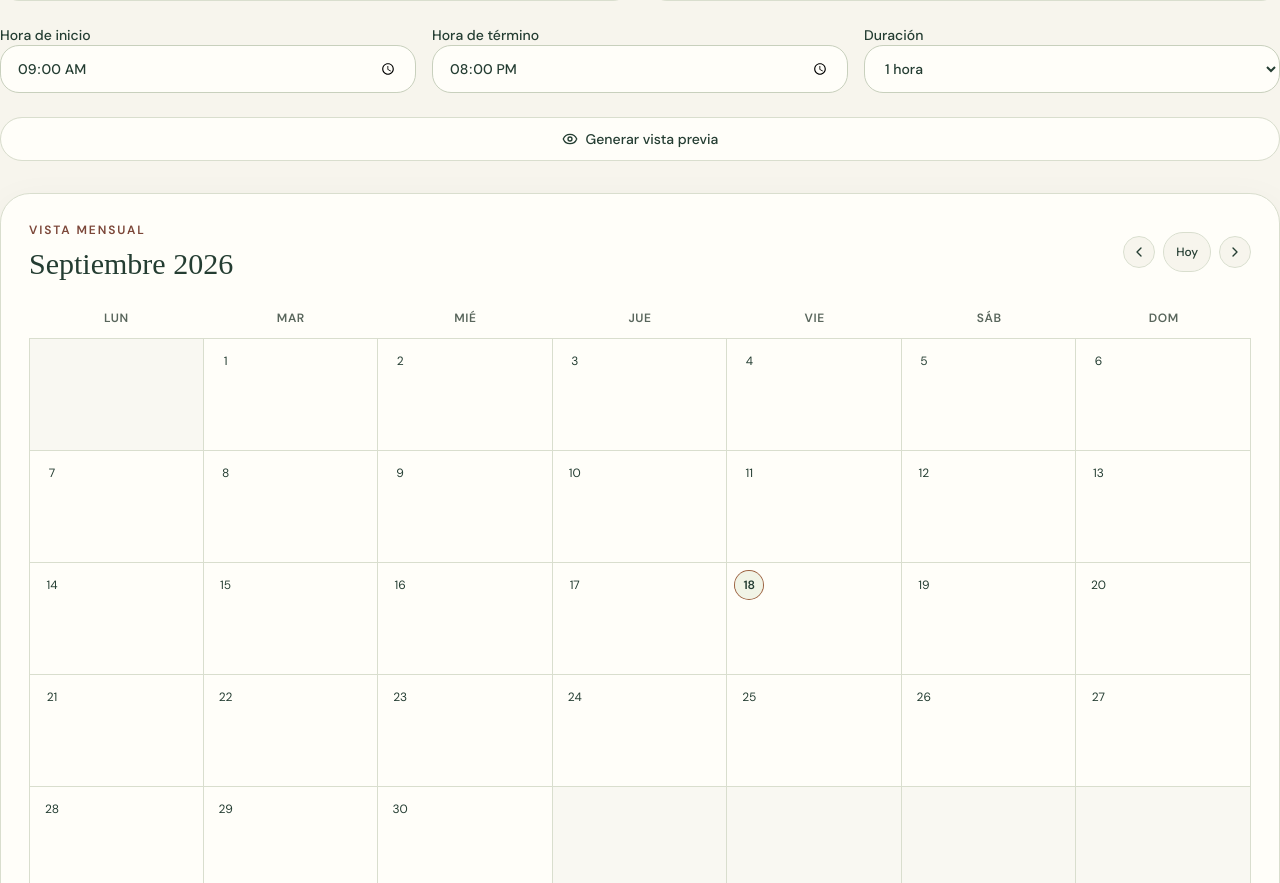
Test: ReservationsPanel › blocks saving a schedule that overlaps an existing slot
(page scrolled)
Click the button named "Agregar horario el Lun 7".
click(52, 473)  # box x1=38 y1=459 x2=66 y2=487
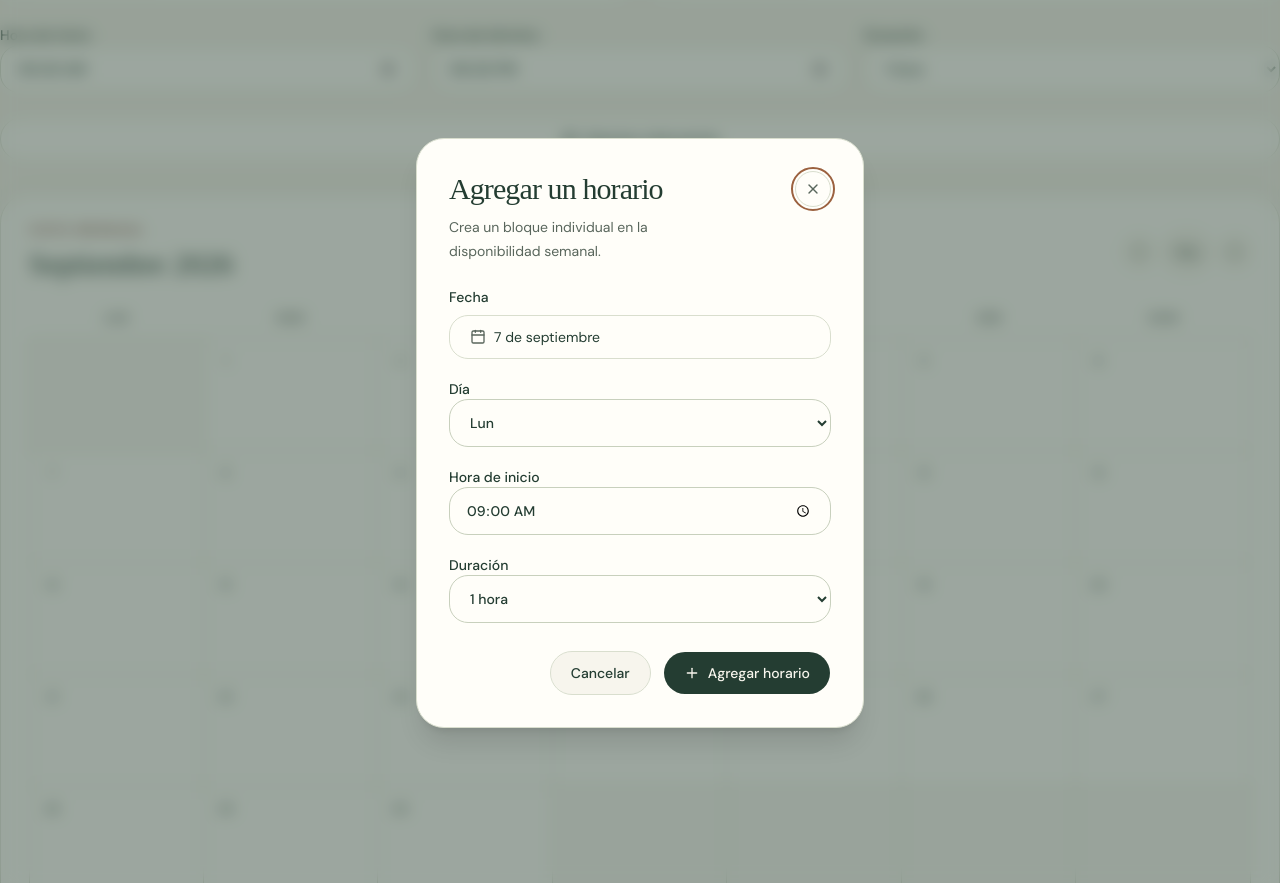
Click the button "Agregar horario".
click(747, 673)  # box x1=663 y1=651 x2=831 y2=695
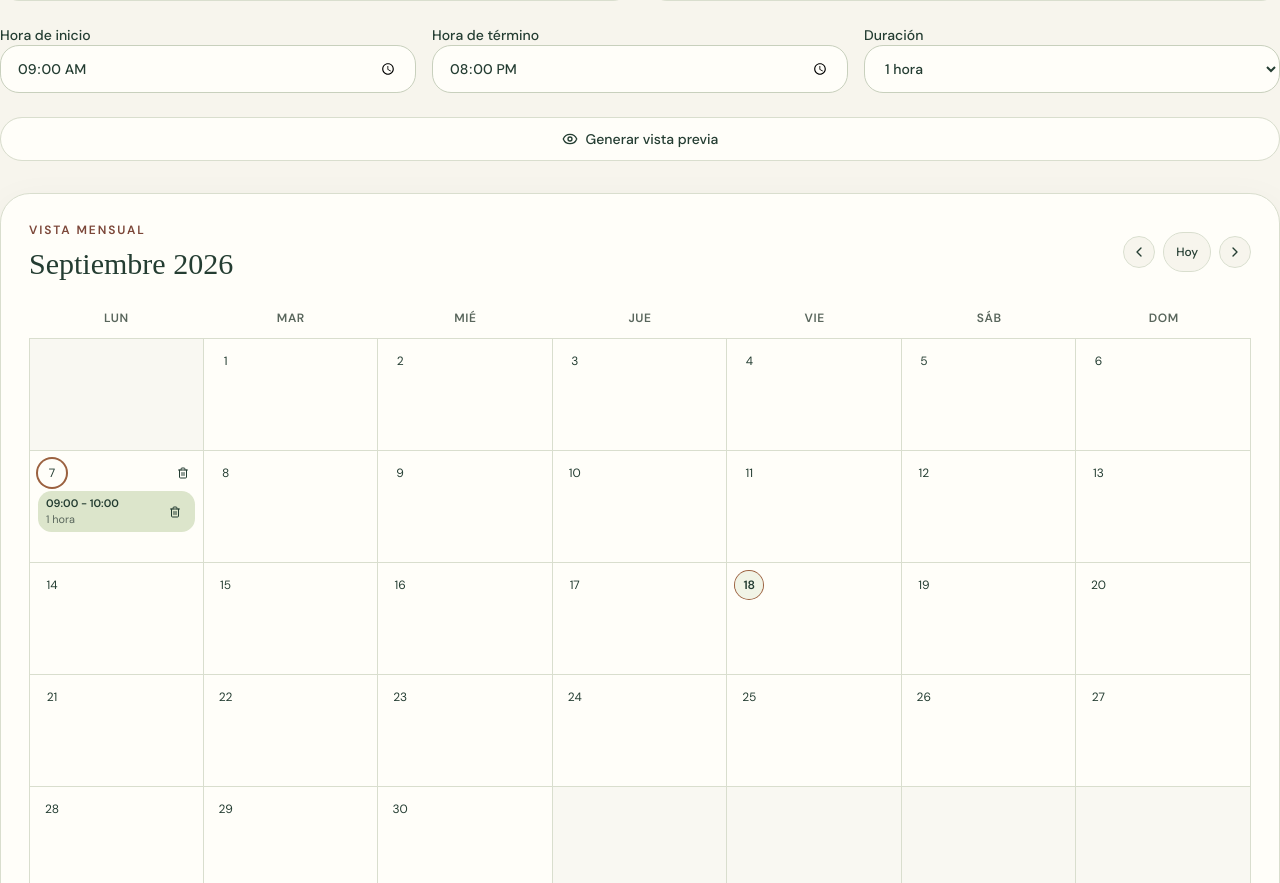
Now the button named "Eliminar Lun de 09:00 a 10:00" is shown, box x1=163 y1=500 x2=187 y2=524
Click the button named "Agregar horario el Lun 7".
click(52, 473)  # box x1=38 y1=459 x2=66 y2=487
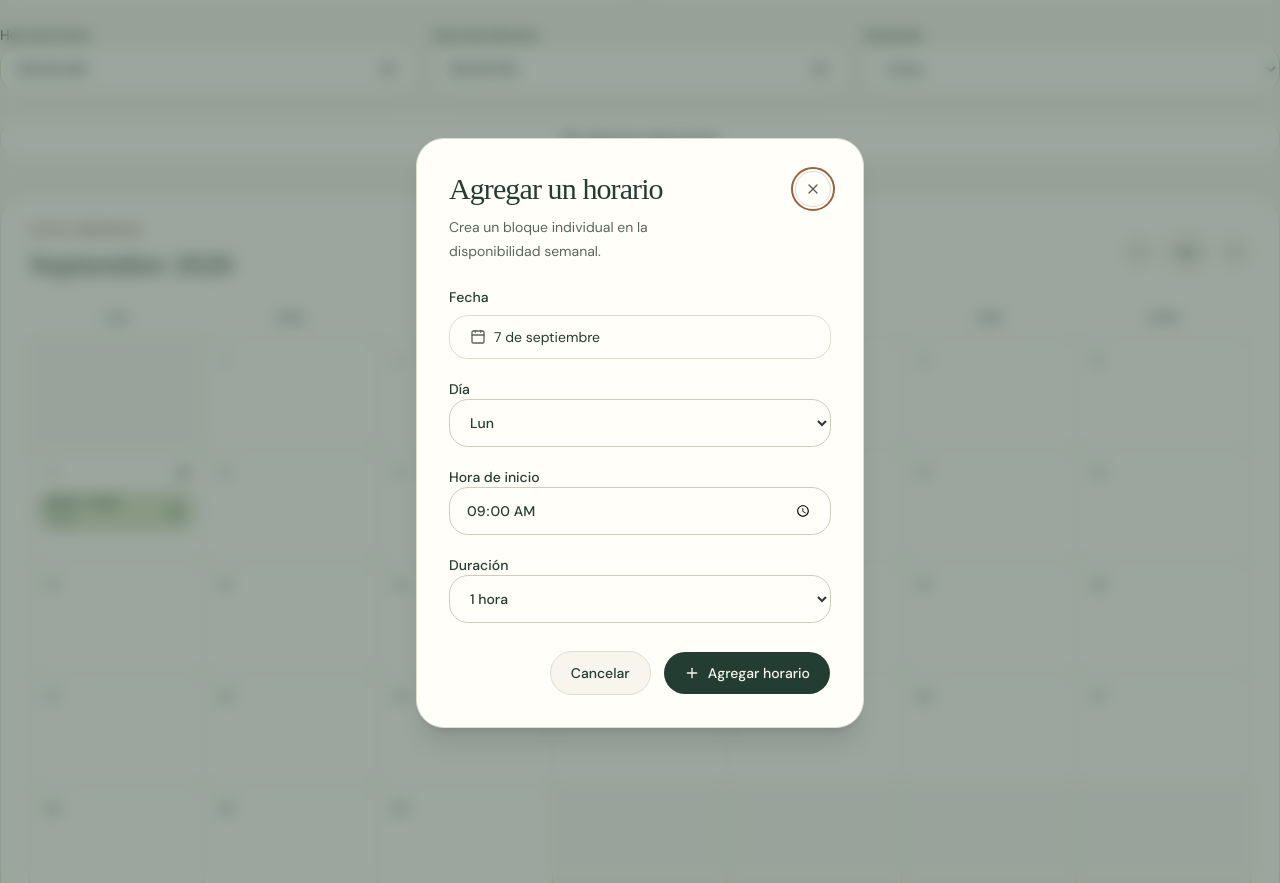
Type "09:30" into the time field labelled "Hora de inicio".
click(640, 511); type("09:30")  # box x1=449 y1=487 x2=831 y2=535
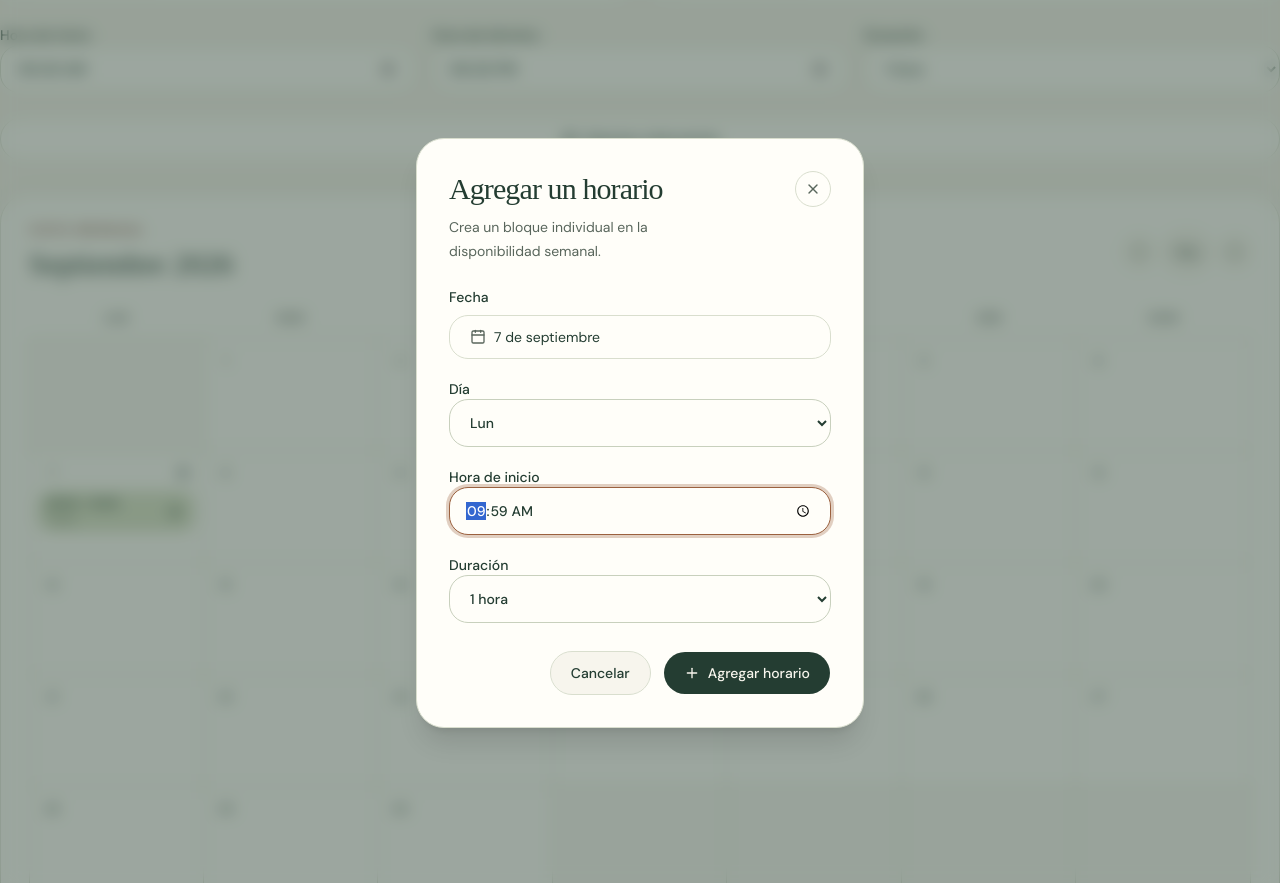
Click the button "Agregar horario".
click(747, 673)  # box x1=663 y1=651 x2=831 y2=695
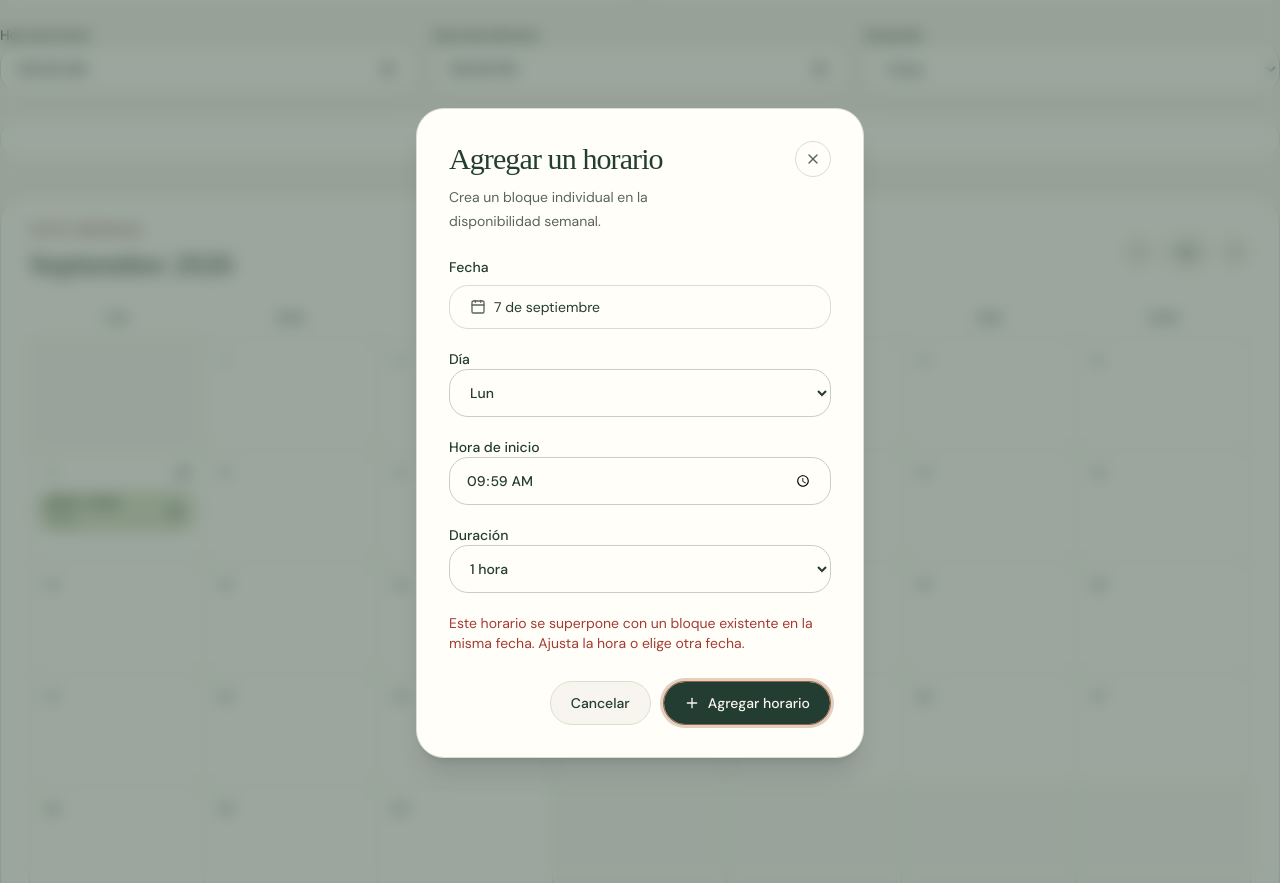
Now the dialog "Agregar un horario" is shown, box x1=416 y1=108 x2=864 y2=758
Now the message shows "se superpone", box x1=449 y1=614 x2=813 y2=652
